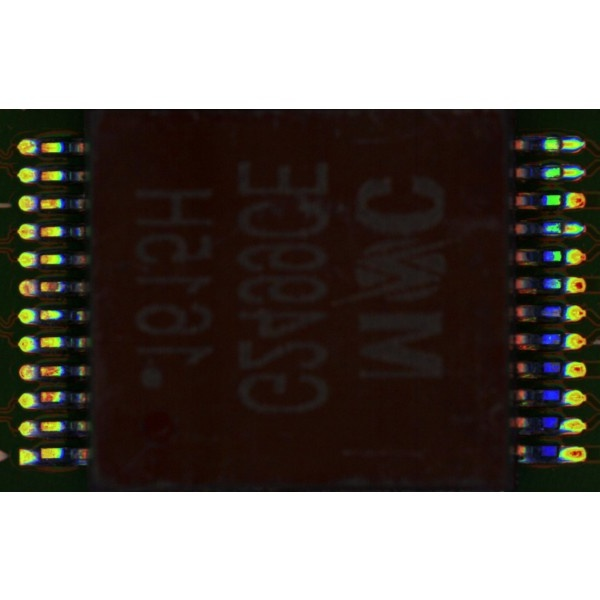Bad_podu: (554, 169, 576, 177), (551, 225, 575, 232), (549, 141, 572, 148)
